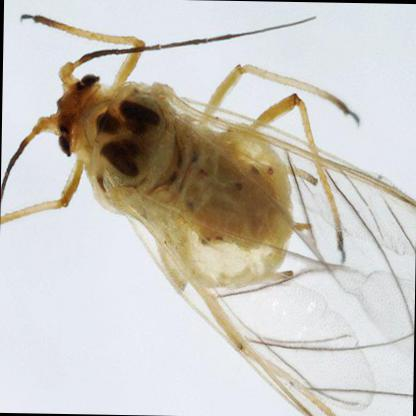schizaphis graminum: (0, 12, 411, 412)
